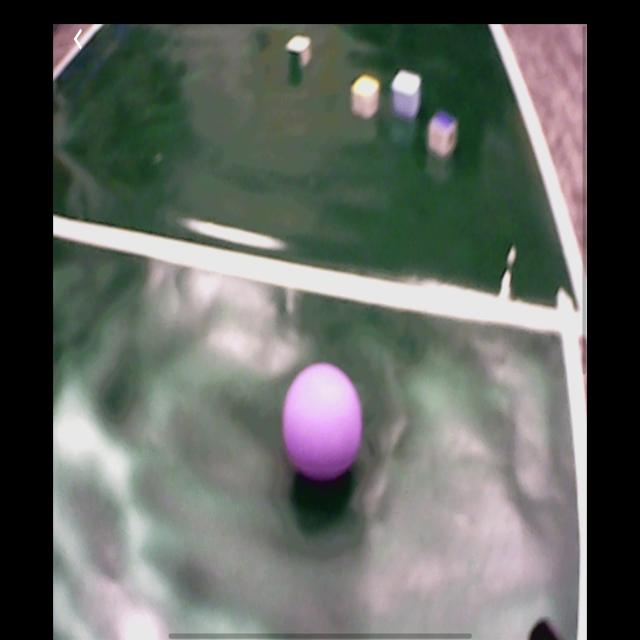ball: (283, 362, 364, 483)
